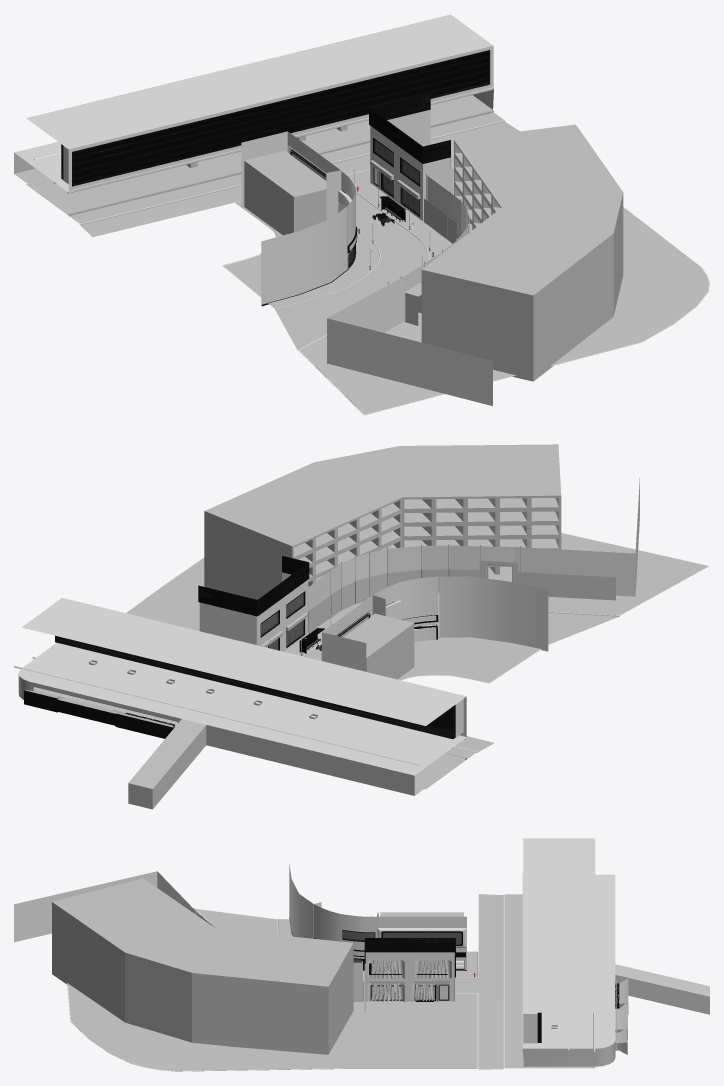
File: phone_booth_refined.fbx
The picture shows the model from 3 angles, top to bottom: view 1: azimuth 30°, elevation 25°; view 2: azimuth 150°, elevation 25°; view 3: azimuth 270°, elevation 25°; orthographic projection. The views are drawn at different scales.
Visible parts, largest first — view 1: Building 3, Building 4, Sidewalk 2, Building 1, road, Building 2, Sidewalk 3, Sidewalk 1, curtain; view 2: Building 4, Building 3, Building 1, Sidewalk 2, Building 2, Sidewalk 1, road, curtain; view 3: Building 3, Building 4, Sidewalk 2, road, Building 1, Building 2, Sidewalk 3, curtain, Sidewalk 1.
Part boxes in pixels (box(x1,y1,x2,y2)): Building 3: box(327, 124, 623, 406); Building 4: box(14, 14, 493, 216); Sidewalk 2: box(298, 148, 709, 415); Building 1: box(241, 131, 357, 306); road: box(80, 122, 519, 350); Building 2: box(369, 92, 450, 221); Sidewalk 3: box(26, 112, 505, 225); Sidewalk 1: box(222, 200, 380, 309); curtain: box(375, 141, 418, 213); Building 4: box(14, 597, 466, 809); Building 3: box(204, 444, 639, 633); Building 1: box(321, 576, 548, 679); Sidewalk 2: box(126, 532, 709, 656); Building 2: box(198, 556, 309, 651); Sidewalk 1: box(398, 628, 549, 683); road: box(304, 609, 618, 752); curtain: box(261, 594, 302, 649); Building 3: box(14, 871, 363, 1054); Building 4: box(522, 838, 709, 1066); Sidewalk 2: box(67, 908, 478, 1071); road: box(197, 894, 503, 1069); Building 1: box(289, 864, 466, 970); Building 2: box(364, 938, 455, 1012); Sidewalk 3: box(503, 894, 595, 1068); curtain: box(366, 960, 451, 1002); Sidewalk 1: box(276, 919, 478, 978).
Size of the model in its own units: 24707 by 5698 by 40705.
